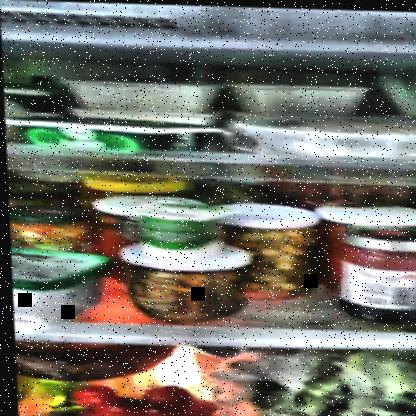cheese: (10, 248, 107, 321)
cream_cheese: (4, 114, 203, 149)
lettuce: (249, 360, 415, 415)
tomato: (71, 383, 189, 415)
yoghurt: (132, 203, 228, 255)
